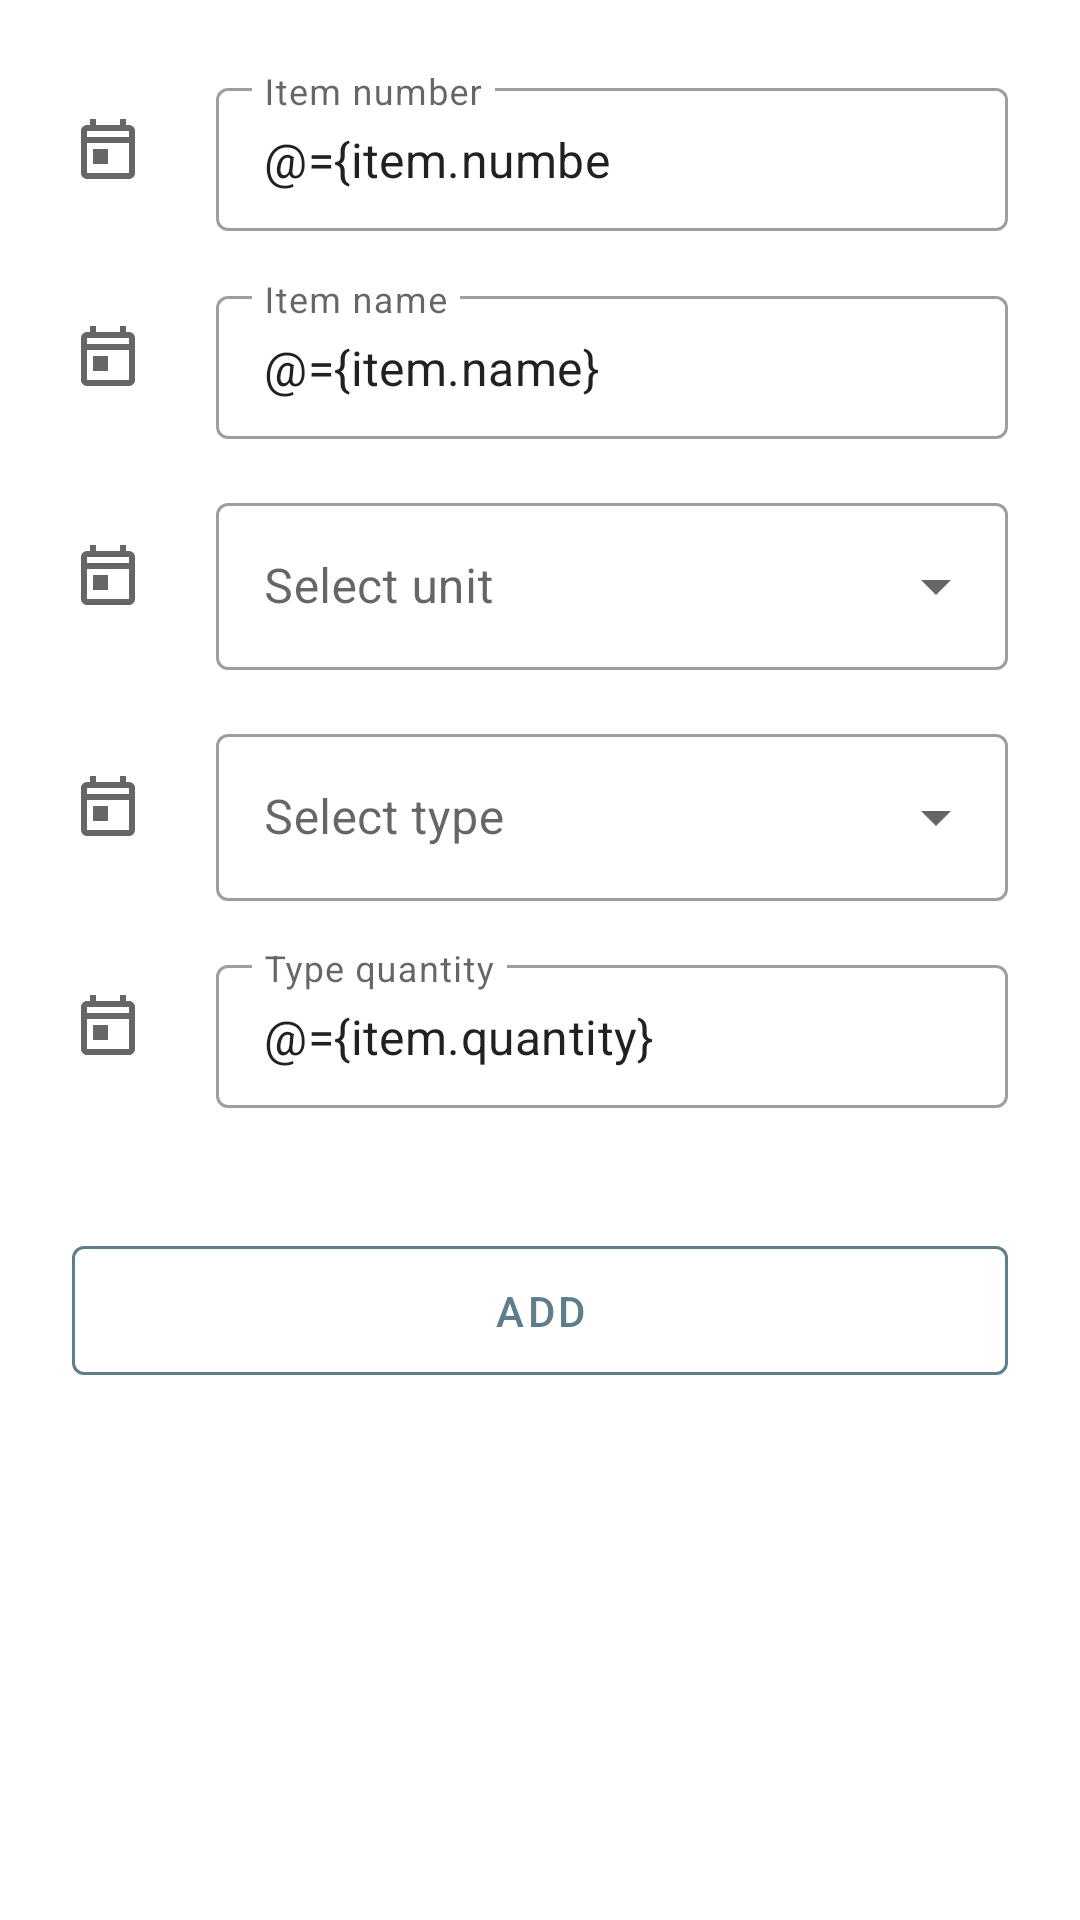

Icons on this 1080px x 1920px Android screen, each with the point to tap as (x,y):
today: (108,149), (108,356), (108,575), (108,806), (108,1025)
